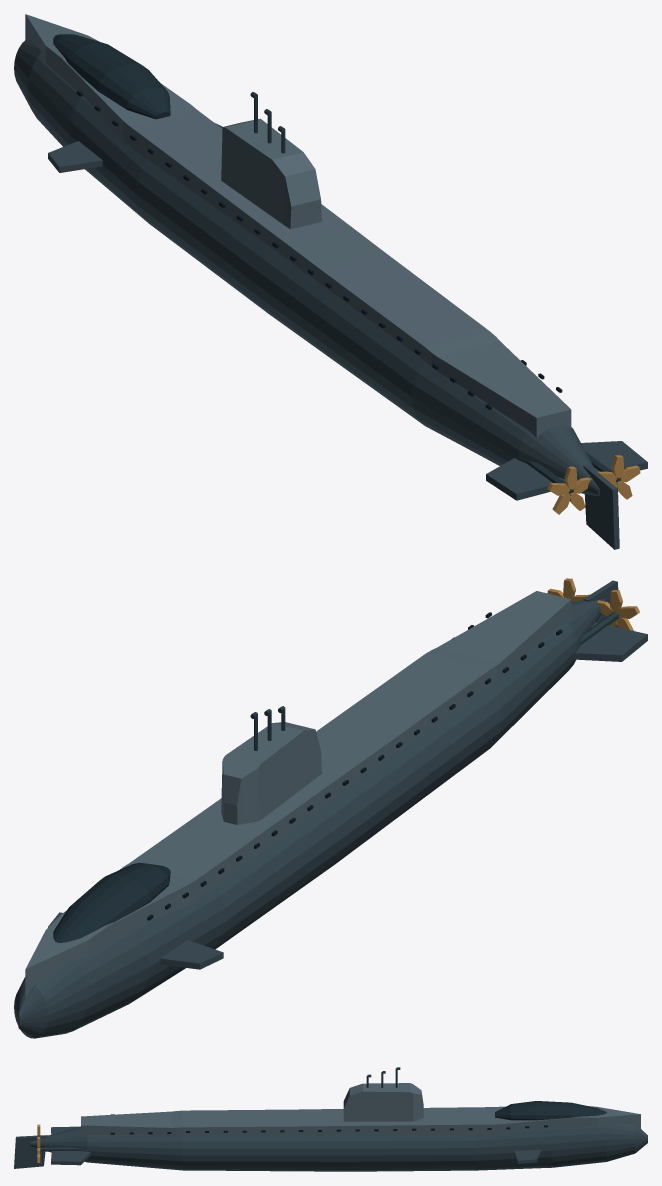
Rendered from archive-oberon.glb.
The picture shows the model from 3 angles, top to bottom: view 1: azimuth 30°, elevation 25°; view 2: azimuth 150°, elevation 25°; view 3: azimuth 270°, elevation 25°; orthographic projection. The views are drawn at different scales.
Visible parts, largest first — view 1: archive-oberon-pressure_hull.004-geometry, archive-oberon-cruise_deck.004-geometry, archive-oberon-submarine_sail.004-geometry, archive-oberon-sonarFairing-geometry, archive-oberon-steering_rudder_0.003-geometry, archive-oberon-stern_plane_-1.004-geometry, archive-oberon-screw_0.004-geometry, archive-oberon-diving_plane_-1.004-geometry, archive-oberon-stern_plane_1.004-geometry, archive-oberon-screw_1.004-geometry, archive-oberon-archive-oberon-geometry; view 2: archive-oberon-pressure_hull.004-geometry, archive-oberon-cruise_deck.004-geometry, archive-oberon-submarine_sail.004-geometry, archive-oberon-sonarFairing-geometry, archive-oberon-stern_plane_-1.004-geometry, archive-oberon-diving_plane_-1.004-geometry, archive-oberon-screw_0.004-geometry, archive-oberon-archive-oberon-geometry; view 3: archive-oberon-pressure_hull.004-geometry, archive-oberon-cruise_deck.004-geometry, archive-oberon-submarine_sail.004-geometry, archive-oberon-sonarFairing-geometry, archive-oberon-steering_rudder_0.003-geometry, archive-oberon-stern_plane_1.004-geometry, archive-oberon-diving_plane_1.004-geometry, archive-oberon-archive-oberon-geometry, archive-oberon-screw_1.004-geometry.
Part boxes in pixels (x1,y1,x2,y2): archive-oberon-pressure_hull.004-geometry: (14, 38, 599, 495); archive-oberon-cruise_deck.004-geometry: (25, 14, 571, 437); archive-oberon-submarine_sail.004-geometry: (221, 92, 321, 229); archive-oberon-sonarFairing-geometry: (53, 34, 170, 119); archive-oberon-steering_rudder_0.003-geometry: (583, 464, 619, 549); archive-oberon-stern_plane_-1.004-geometry: (486, 458, 565, 500); archive-oberon-screw_0.004-geometry: (527, 460, 591, 514); archive-oberon-diving_plane_-1.004-geometry: (48, 141, 102, 172); archive-oberon-stern_plane_1.004-geometry: (581, 441, 647, 471); archive-oberon-screw_1.004-geometry: (586, 452, 640, 499); archive-oberon-archive-oberon-geometry: (76, 90, 562, 409); archive-oberon-pressure_hull.004-geometry: (14, 599, 605, 1038); archive-oberon-cruise_deck.004-geometry: (25, 591, 571, 997); archive-oberon-submarine_sail.004-geometry: (221, 706, 321, 824); archive-oberon-sonarFairing-geometry: (53, 862, 170, 942); archive-oberon-stern_plane_-1.004-geometry: (574, 622, 647, 661); archive-oberon-diving_plane_-1.004-geometry: (160, 940, 223, 969); archive-oberon-screw_0.004-geometry: (580, 590, 639, 645); archive-oberon-archive-oberon-geometry: (147, 612, 562, 920); archive-oberon-pressure_hull.004-geometry: (30, 1123, 647, 1171); archive-oberon-cruise_deck.004-geometry: (81, 1106, 640, 1135); archive-oberon-submarine_sail.004-geometry: (343, 1067, 423, 1121); archive-oberon-sonarFairing-geometry: (495, 1101, 606, 1120); archive-oberon-steering_rudder_0.003-geometry: (14, 1135, 46, 1168); archive-oberon-stern_plane_1.004-geometry: (51, 1151, 90, 1165); archive-oberon-diving_plane_1.004-geometry: (514, 1150, 541, 1163); archive-oberon-archive-oberon-geometry: (110, 1114, 547, 1134); archive-oberon-screw_1.004-geometry: (37, 1137, 81, 1162).
Size of the model in its own units: 1.58 by 1.76 by 9.95.
